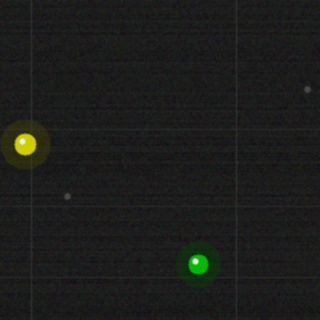green_normal: (186, 252, 210, 276)
yellow_warning: (12, 131, 38, 157)
